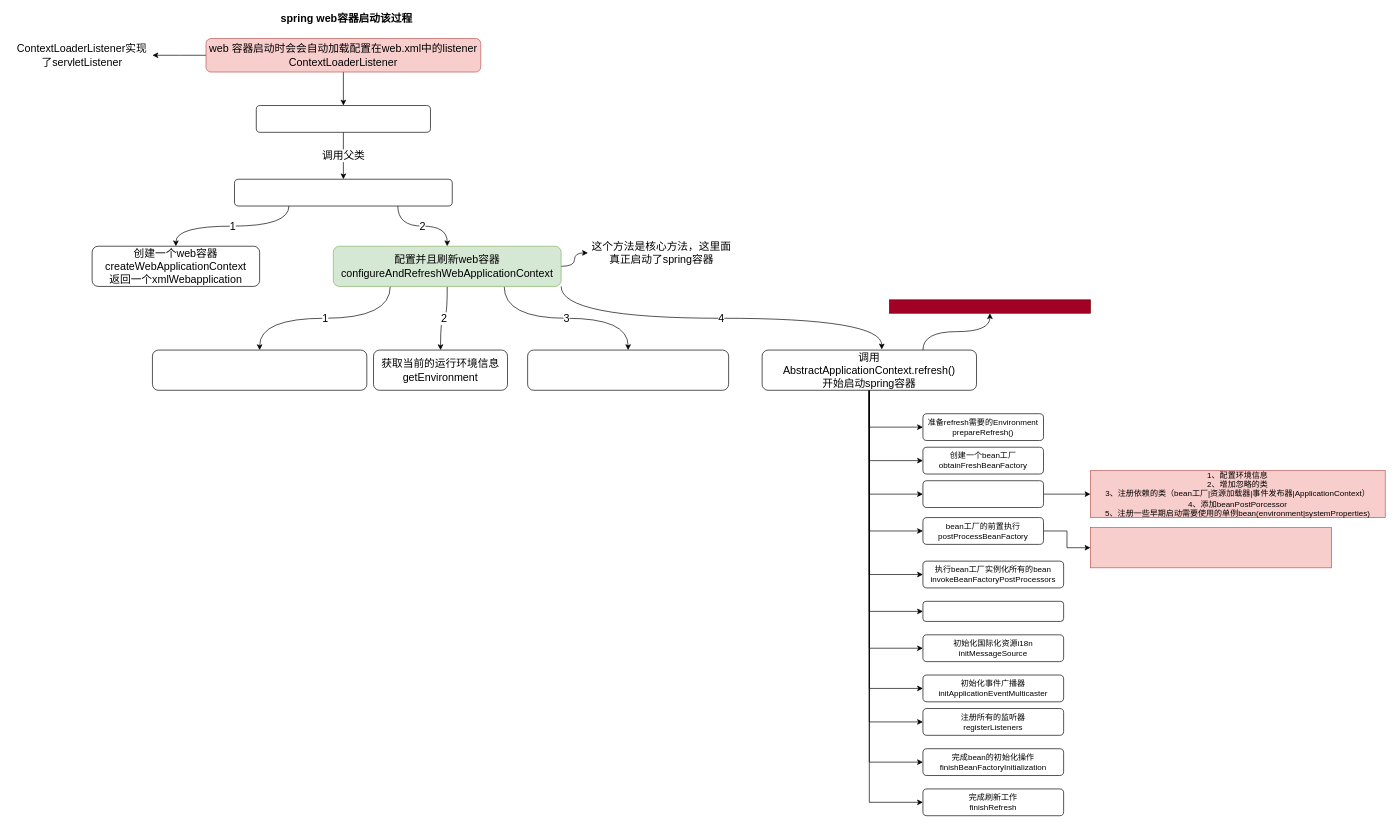
The diagram is 1397 pixels wide and 827 high, and some of its shapes have lost their labels. The shapes that lost their labels are listed below. From the top down, each one's centre as x and y in pixels, then its label:
point (343, 118): contextInitialized会被自动调用
point (343, 192): ContextLoader.initWebApplicationContext()
point (989, 306): refresh方法是spring的真正启动核心方法
point (259, 369): 设置spring主配置文件路径 这里从servlet的context中读取属性名为"contextConfigLocation"的值
point (628, 369): 自定义上下文 customizeContext 取决于web.xml中是否配置自定义上下文
point (983, 494): 准备bean工厂 prepareBeanFactory
point (1211, 547): 1、增加一个bean的postProcess 2、注册一个webApplication容器到ApplicationContext中
point (993, 611): 注册bean的PostProcess registerBeanPostProcessors
